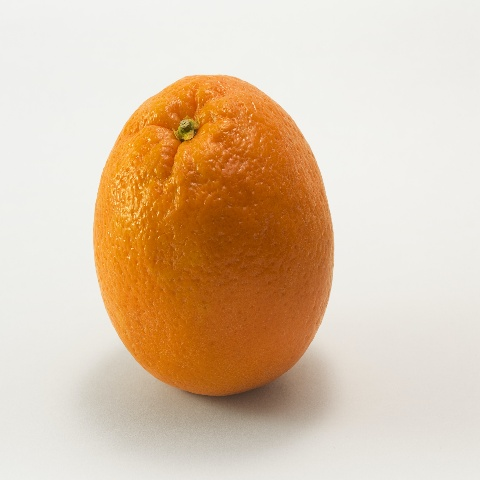orange: (54, 36, 397, 436)
